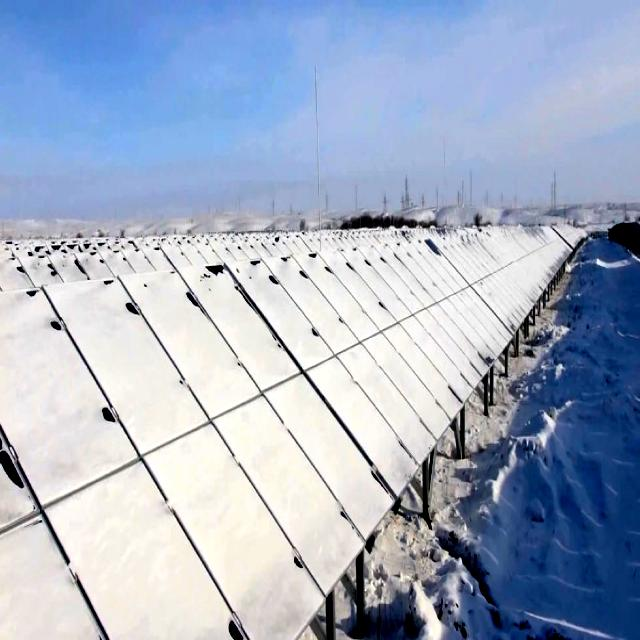panel: (119, 452, 244, 640), (9, 295, 114, 485), (253, 388, 362, 536), (129, 281, 238, 424), (5, 499, 111, 638), (364, 308, 466, 404), (263, 266, 351, 362), (162, 229, 338, 269), (1, 238, 143, 286), (456, 237, 534, 314), (358, 250, 446, 296)
